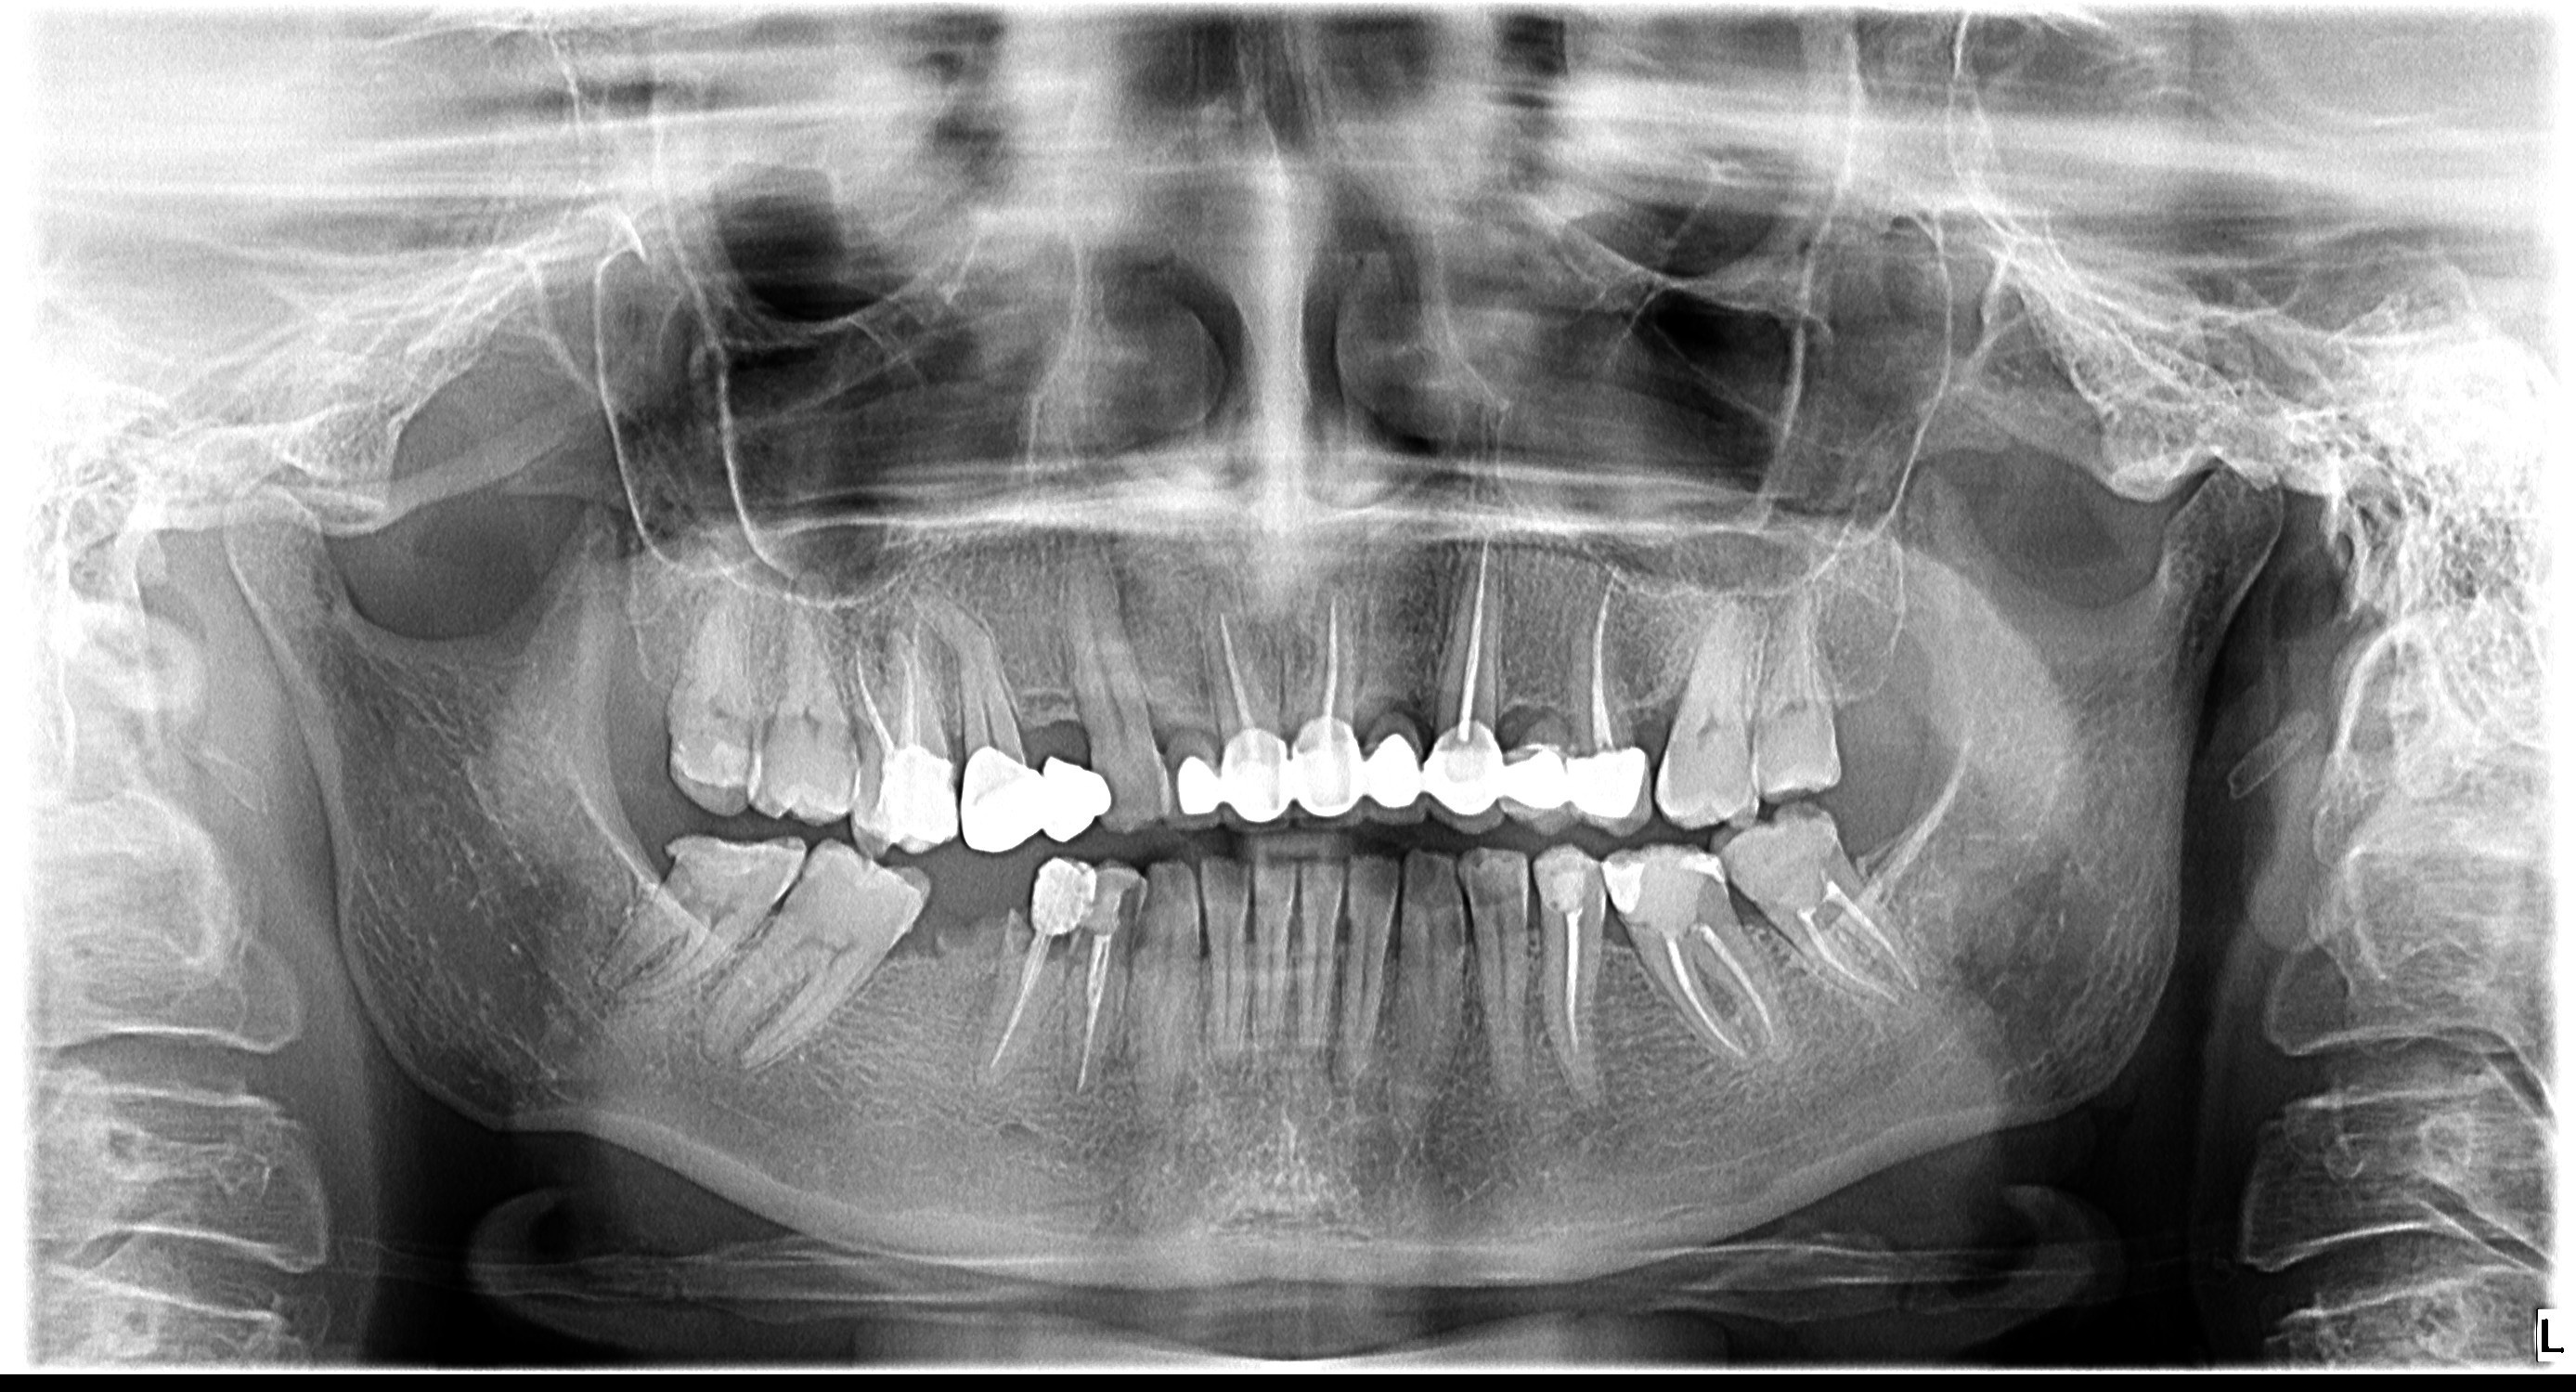CAR: (1005, 910, 1072, 967), (781, 855, 827, 903)
END: (1639, 933, 1793, 1058), (1797, 903, 1932, 1013), (966, 933, 1055, 1089), (1565, 561, 1631, 759), (1430, 538, 1502, 717), (851, 600, 927, 758), (1067, 927, 1127, 1101), (1547, 912, 1598, 1078), (1303, 588, 1355, 718), (1204, 593, 1250, 727)
OBT: (1723, 814, 1858, 917), (1598, 842, 1714, 938), (853, 756, 959, 850), (663, 821, 803, 885), (1021, 855, 1108, 929), (1524, 847, 1603, 924), (1069, 866, 1144, 939), (1593, 847, 1665, 915), (707, 727, 760, 813), (1673, 843, 1733, 886)
PRR: (1163, 725, 1675, 852), (939, 746, 1124, 862)
